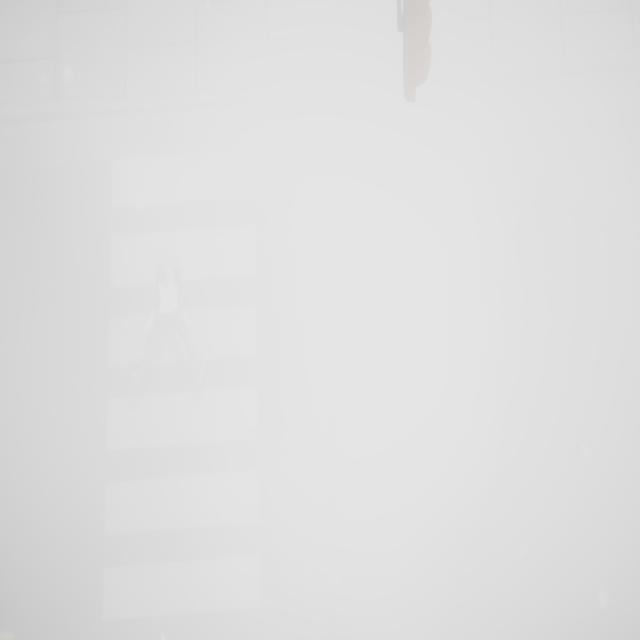Human: (128, 258, 203, 372)
